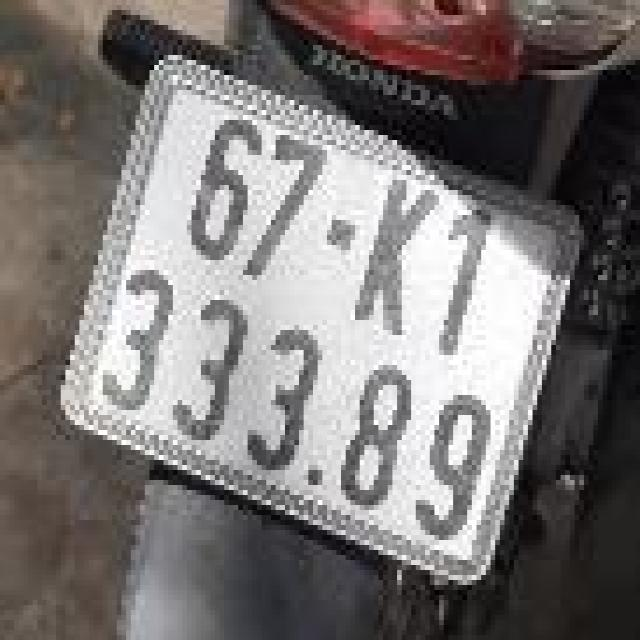1: (414, 191, 512, 370)
3: (231, 312, 342, 482), (90, 254, 194, 423), (164, 284, 266, 452)
6: (177, 105, 277, 271)
7: (229, 121, 341, 300)
8: (324, 348, 439, 521)
9: (407, 375, 512, 552)
K: (341, 162, 462, 348)
